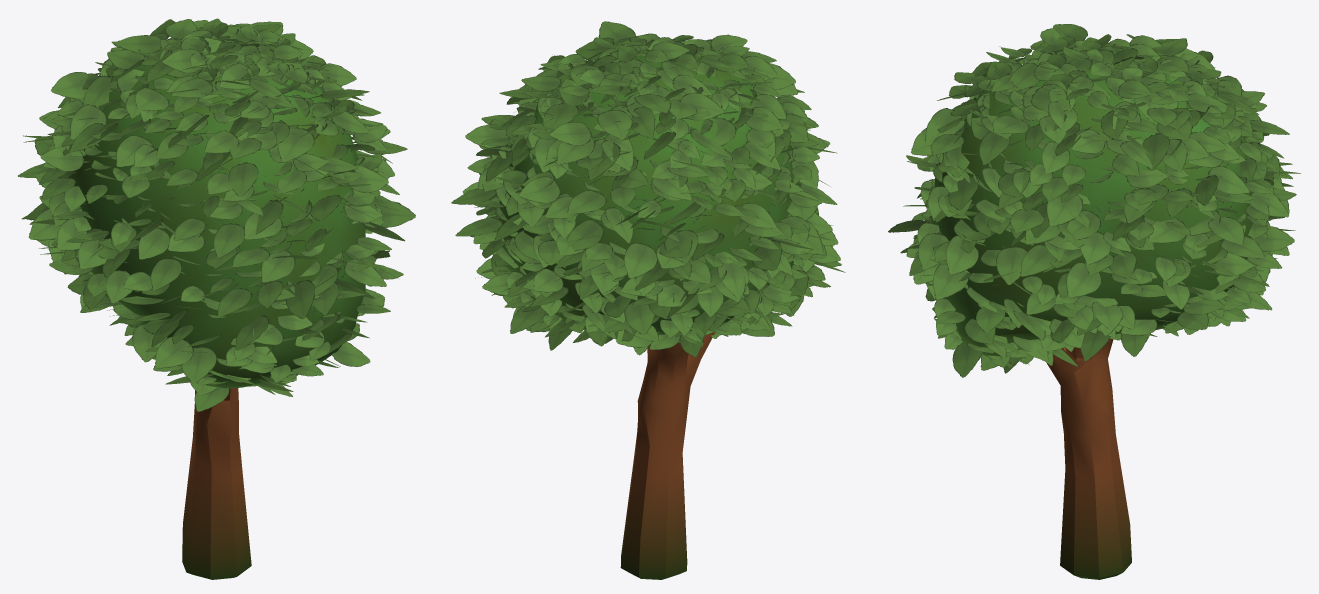
Rendered from Drzewo2.fbx.
3 renders of one model, left to right at view 1: azimuth 30°, elevation 25°; view 2: azimuth 150°, elevation 25°; view 3: azimuth 270°, elevation 25°, orthographic.
Visible parts, largest first — view 1: Cube.023; view 2: Cube.023; view 3: Cube.023.
Boxes of the visible parts, x1=… form: Cube.023: x1=18, y1=18, x2=415, y2=579; Cube.023: x1=451, y1=21, x2=845, y2=579; Cube.023: x1=888, y1=24, x2=1300, y2=579.
Size of the model in its own units: 365 by 550 by 406.
1 material, 1 textured.
